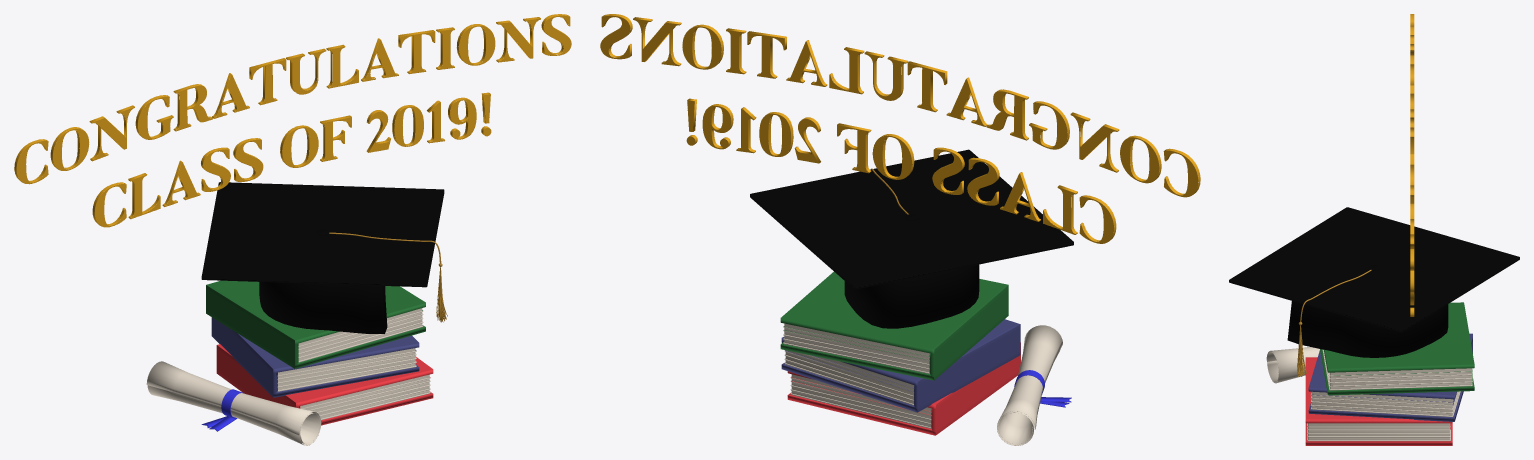
Rendered from graduation_cap_2019.glb.
3 renders of one model, left to right at view 1: azimuth 30°, elevation 25°; view 2: azimuth 150°, elevation 25°; view 3: azimuth 270°, elevation 25°, orthographic. The views are drawn at different scales.
Visible parts, largest first — view 1: Cube, Text, Cube.003, Cube.002, Cube.001, Circle, Spiral.002; view 2: Cube, Text, Cube.003, Cube.002, Cube.001, Circle, Spiral.002; view 3: Cube, Cube.003, Circle, Cube.001, Cube.002, Text, Spiral.002.
Part boxes in pixels (left/top/right/bottom): Cube: left=201, top=182, right=444, bottom=287; Text: left=14, top=14, right=571, bottom=227; Cube.003: left=206, top=280, right=425, bottom=368; Cube.002: left=211, top=317, right=419, bottom=397; Cube.001: left=216, top=344, right=433, bottom=425; Circle: left=259, top=282, right=387, bottom=333; Spiral.002: left=146, top=361, right=321, bottom=445; Cube: left=750, top=149, right=1073, bottom=289; Text: left=600, top=14, right=1200, bottom=243; Cube.003: left=780, top=272, right=1008, bottom=380; Cube.002: left=781, top=319, right=1020, bottom=412; Cube.001: left=787, top=342, right=1020, bottom=435; Circle: left=844, top=264, right=979, bottom=328; Spiral.002: left=997, top=325, right=1062, bottom=445; Cube: left=1229, top=207, right=1519, bottom=332; Cube.003: left=1320, top=302, right=1474, bottom=395; Circle: left=1287, top=301, right=1448, bottom=357; Cube.001: left=1305, top=357, right=1452, bottom=445; Cube.002: left=1308, top=333, right=1472, bottom=421; Text: left=1410, top=14, right=1414, bottom=316; Spiral.002: left=1266, top=347, right=1319, bottom=383.
Bounding box in the file's own units: 8.08 × 4.44 × 3.95.
